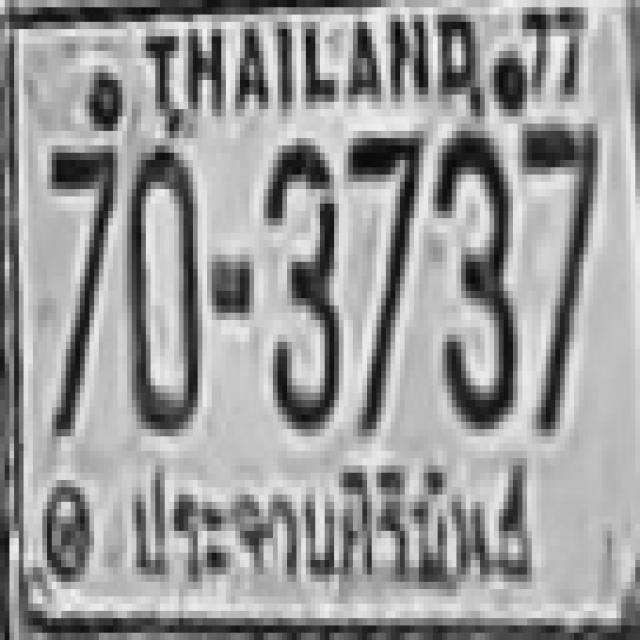0: (122, 142, 198, 425)
3: (433, 124, 513, 422), (263, 138, 339, 422)
7: (518, 120, 598, 433), (346, 127, 421, 433), (346, 127, 421, 382), (47, 146, 113, 429), (518, 120, 598, 331), (346, 127, 421, 331)
PrachuapKhiriKhan: (123, 449, 552, 607)
